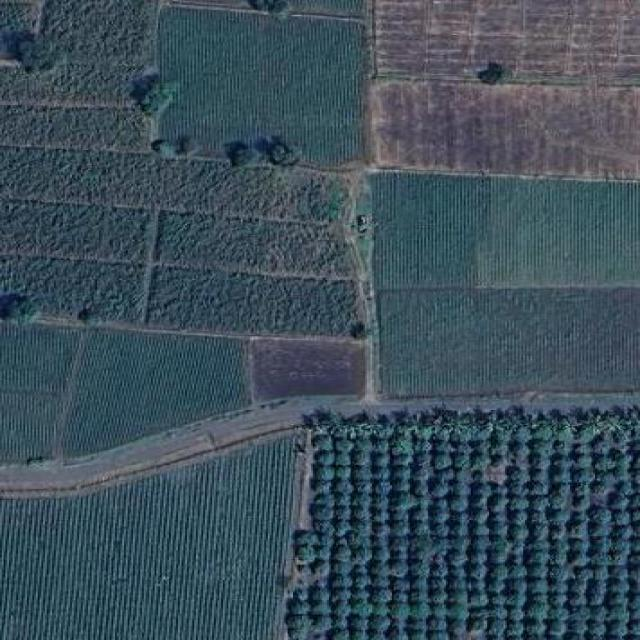land-Sx1C: (290, 409, 640, 640), (372, 171, 638, 396), (3, 435, 294, 640), (158, 8, 363, 166), (380, 288, 638, 396), (372, 79, 637, 178), (2, 148, 345, 222), (65, 329, 247, 457), (374, 0, 640, 86), (478, 178, 638, 286), (2, 0, 155, 107), (372, 172, 491, 290), (152, 269, 354, 334), (162, 213, 345, 274), (0, 326, 76, 463), (2, 201, 147, 261), (4, 259, 139, 320), (252, 338, 363, 401), (0, 105, 147, 151)
